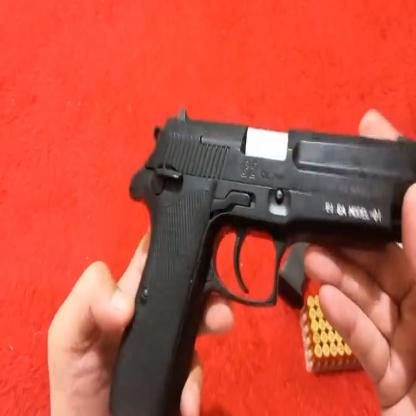handgun: (105, 120, 414, 408)
